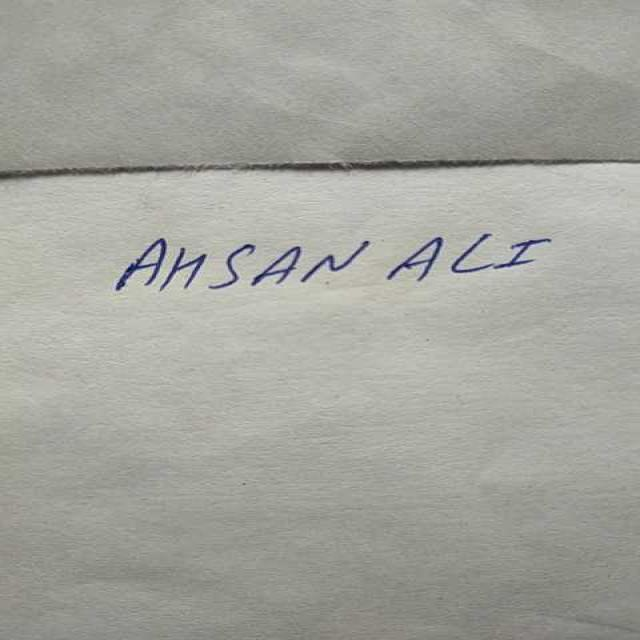signature: (105, 215, 560, 314)
